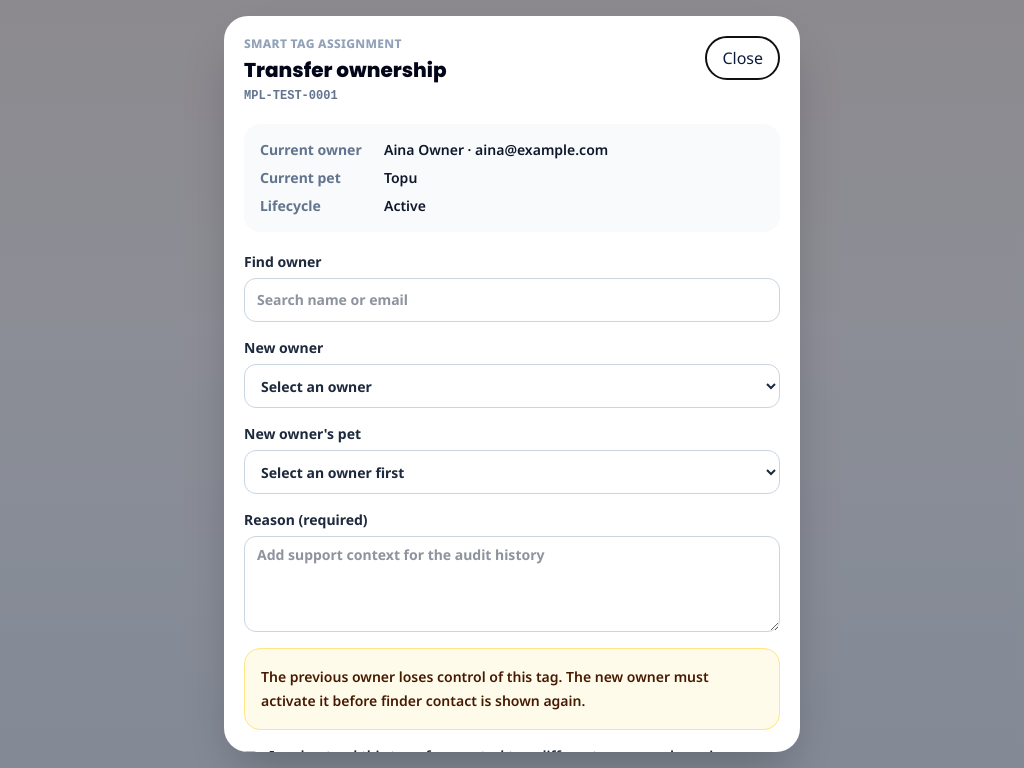
Test: AdminSmartTagAssignmentDialog › reports a pet load failure for the chosen owner
Select "Bala Owner · bala@example.com" in the dropdown labelled "New owner" at (512, 386), box x1=244 y1=364 x2=780 y2=408
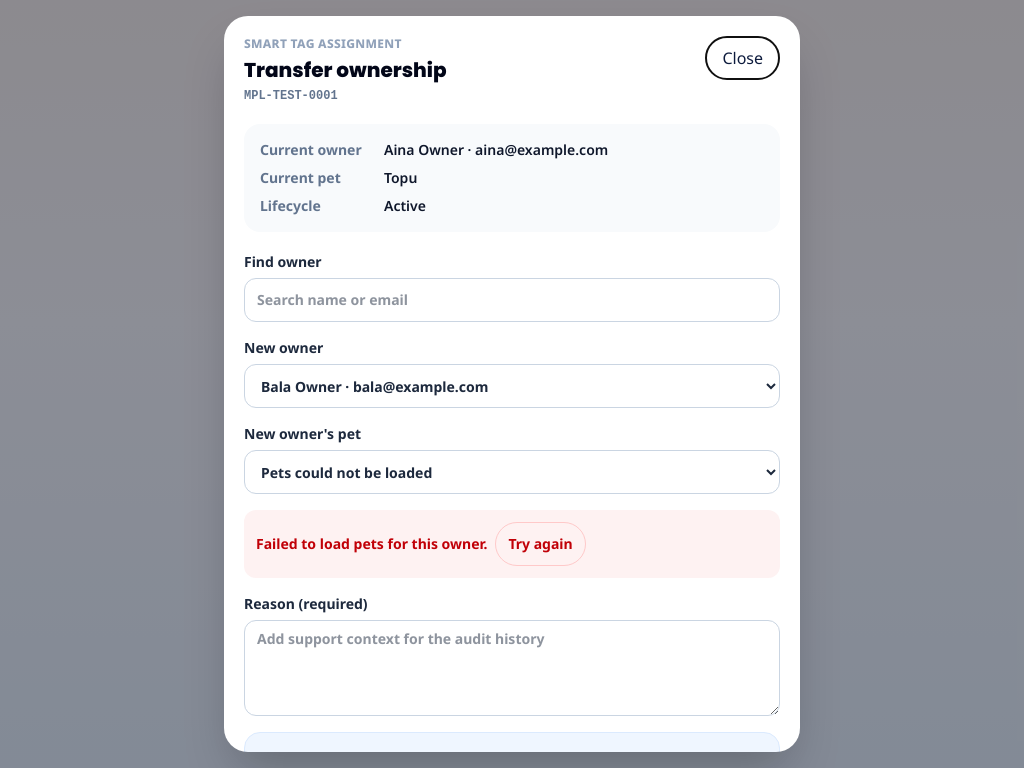
Check: the text "Failed to load pets for this owner. Try again" is shown, box x1=244 y1=510 x2=780 y2=578
